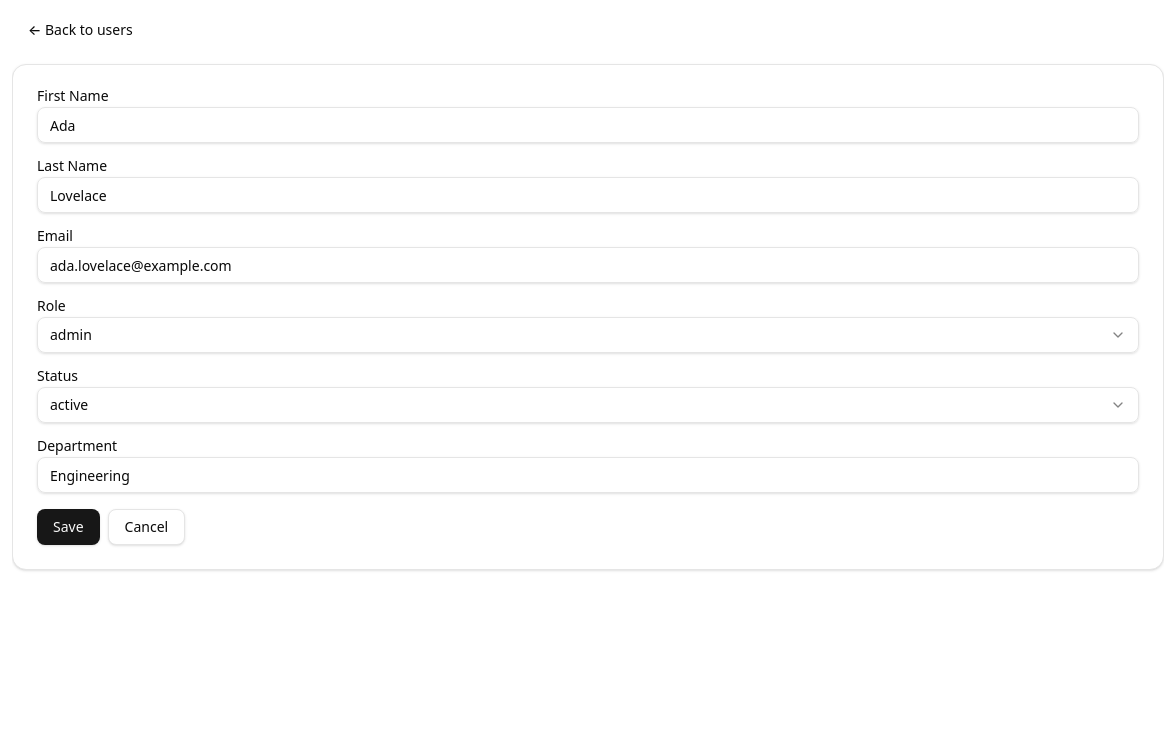
Test case: UserDetailView › shows a field error when a text field is emptied
Clear the field labelled "First Name": coordinates (588, 125) [37,107,1139,143]
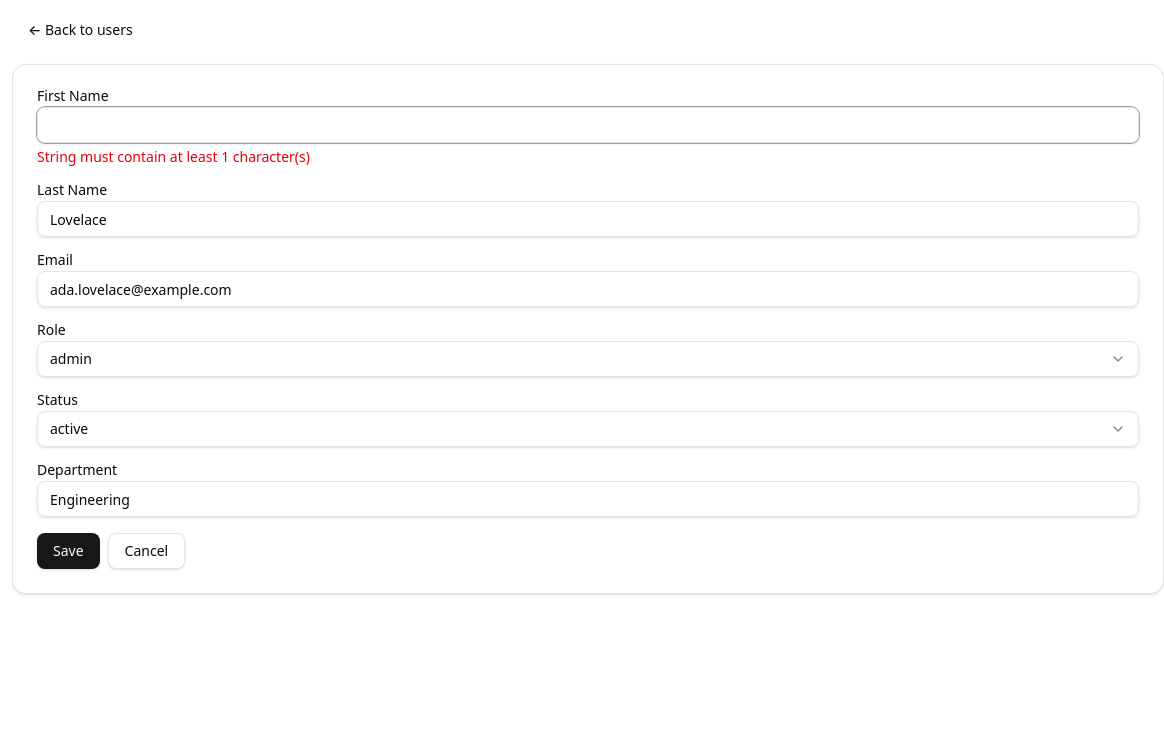
Expected: the text "String must contain at least 1 character(s)" is shown, [37,147,310,166]
